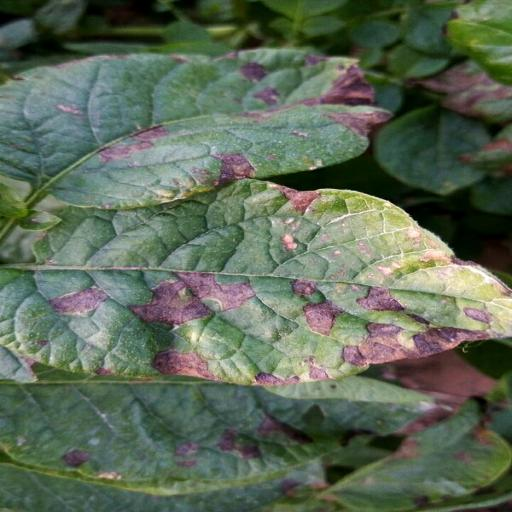disease_tomato: (0, 178, 512, 388), (0, 44, 394, 210)
